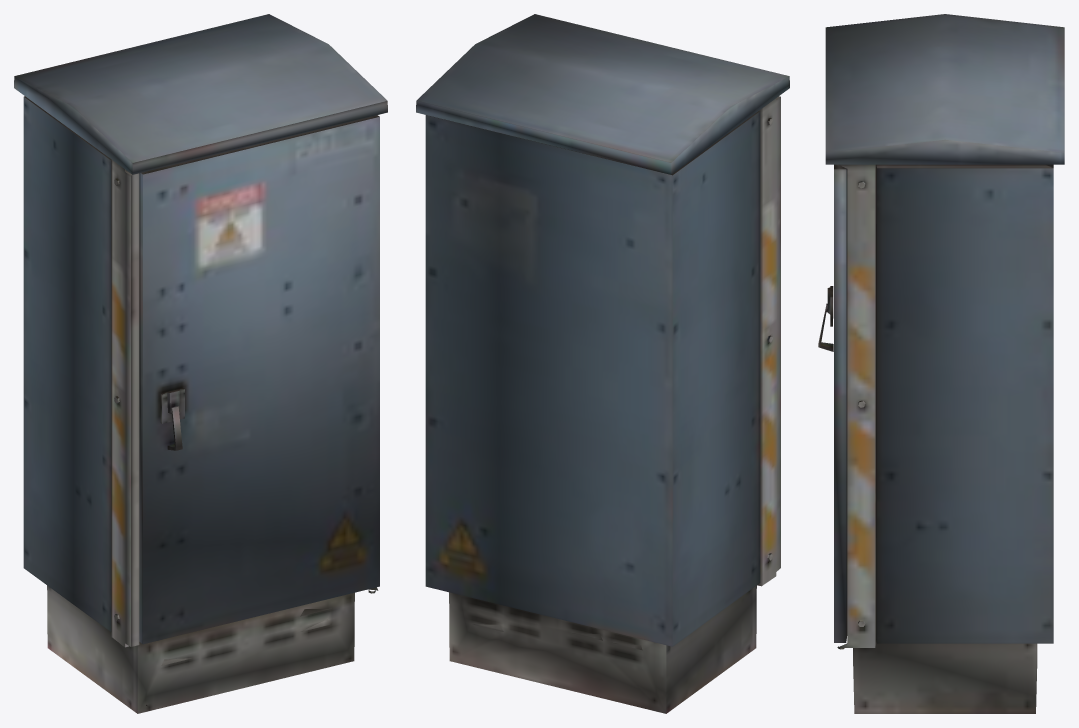
The model's file is utility_box.glb.
3 renders of one model, left to right at view 1: azimuth 30°, elevation 25°; view 2: azimuth 150°, elevation 25°; view 3: azimuth 270°, elevation 25°, orthographic.
Visible parts, largest first — view 1: utility_box; view 2: utility_box; view 3: utility_box.
Boxes of the visible parts, <box> form: utility_box: <box>14,14,387,713</box>; utility_box: <box>416,14,789,713</box>; utility_box: <box>818,14,1064,713</box>.
Size of the model in its own units: 0.5164 by 1.12 by 0.4277.
1 material, 1 textured.
